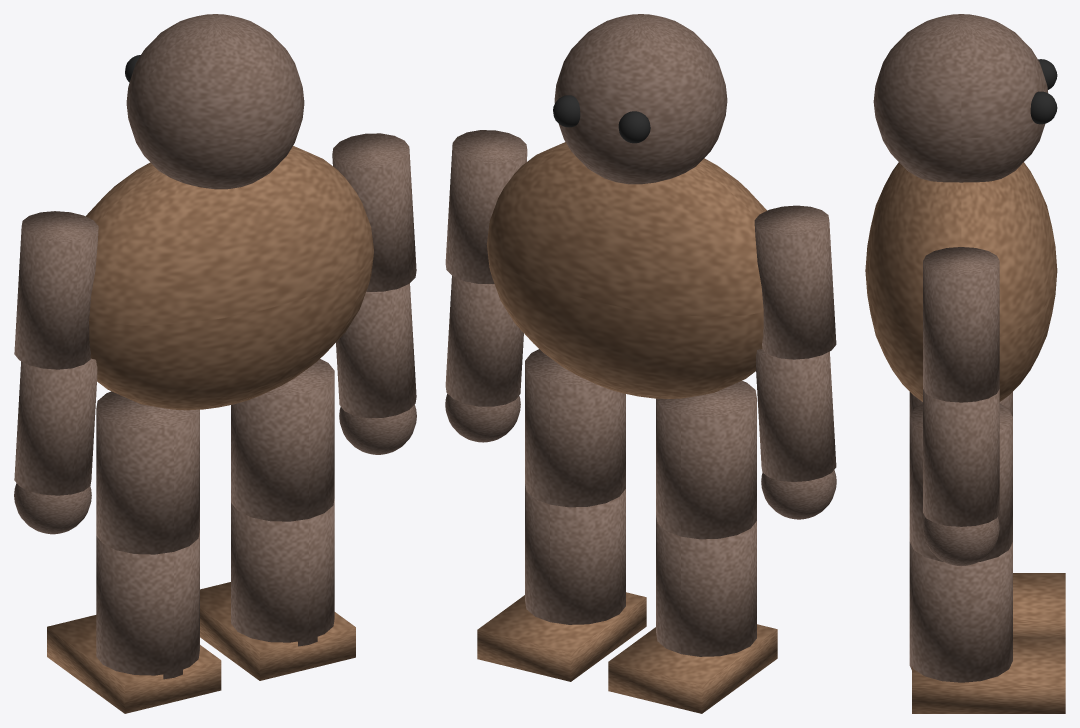
The model's file is fachan.glb.
3 renders of one model, left to right at view 1: azimuth 30°, elevation 25°; view 2: azimuth 150°, elevation 25°; view 3: azimuth 270°, elevation 25°, orthographic. The views are drawn at different scales.
Visible parts, largest first — view 1: Torso, Head, ThighL, ThighR, ShinR, ShinL, UpperArmL, ForearmL, ForearmR, UpperArmR, FootL, FootR (+2 smaller); view 2: Torso, Head, ThighL, ThighR, ShinL, ShinR, UpperArmL, ForearmL, FootR, FootL, ForearmR, UpperArmR (+4 smaller); view 3: Torso, Head, ShinR, UpperArmR, ForearmR, FootR, ThighR, FootL, HandR, Eye.001, Eye.
Boxes of the visible parts, x1,y1,x2,y2 form: Torso: (85, 146, 373, 410); Head: (126, 14, 304, 189); ThighL: (96, 391, 199, 554); ThighR: (231, 359, 334, 521); ShinR: (231, 499, 334, 646); ShinL: (96, 530, 199, 679); UpperArmL: (14, 211, 98, 369); ForearmL: (14, 358, 97, 495); ForearmR: (336, 283, 416, 418); UpperArmR: (332, 133, 416, 291); FootL: (47, 615, 221, 713); FootR: (200, 582, 355, 680); Torso: (486, 142, 766, 398); Head: (554, 14, 727, 184); ThighL: (656, 381, 756, 539); ThighR: (525, 349, 625, 507); ShinL: (656, 515, 756, 656); ShinR: (525, 484, 625, 624); UpperArmL: (754, 205, 836, 359); ForearmL: (756, 349, 836, 481); FootR: (477, 592, 646, 681); FootL: (608, 624, 777, 713); ForearmR: (445, 276, 523, 406); UpperArmR: (445, 130, 527, 283); Torso: (865, 162, 1057, 401); Head: (873, 14, 1047, 182); ShinR: (909, 542, 1012, 682); UpperArmR: (923, 247, 999, 402); ForearmR: (923, 389, 999, 526); FootR: (912, 637, 1065, 713); ThighR: (909, 403, 1012, 561); FootL: (1013, 573, 1065, 637); HandR: (923, 517, 999, 566); Eye.001: (1030, 91, 1057, 124); Eye: (1038, 59, 1057, 89).
Size of the model in its own units: 0.6367 by 1 by 0.2852.
3 materials, 2 textured.
